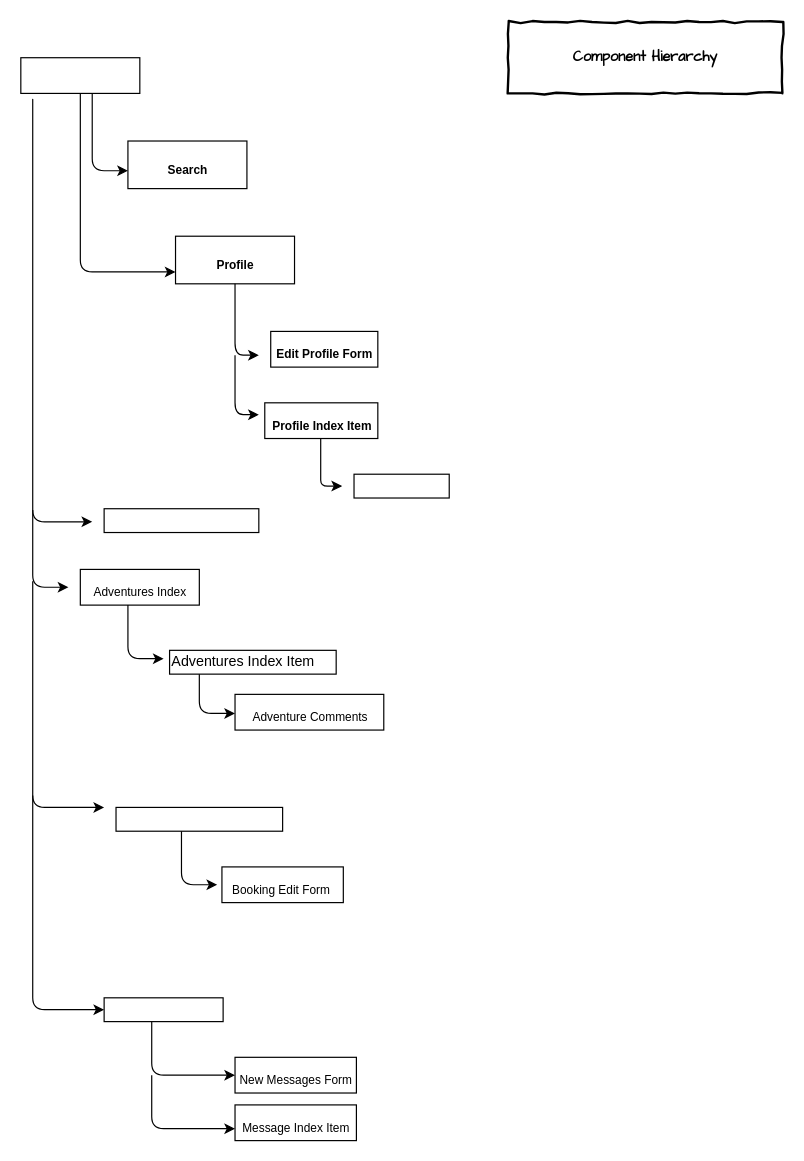
Image size: 804x1161. Some labels were removed from this diagram. The shapes that lost their labels are listed below. From the top down, each one's box as (x1, y1, x2, y2) in pixels, then its label:
(20, 57, 140, 93): App
(353, 473, 449, 498): Host Comments
(103, 508, 259, 533): New Adventure Form
(115, 806, 283, 831): Booking Request Form
(103, 997, 223, 1022): Messages Index
